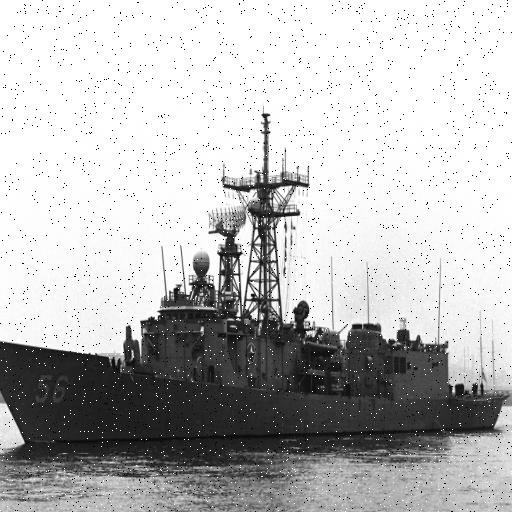Fragata: (1, 107, 512, 457)
